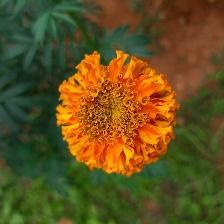marigold: (57, 49, 177, 180)
